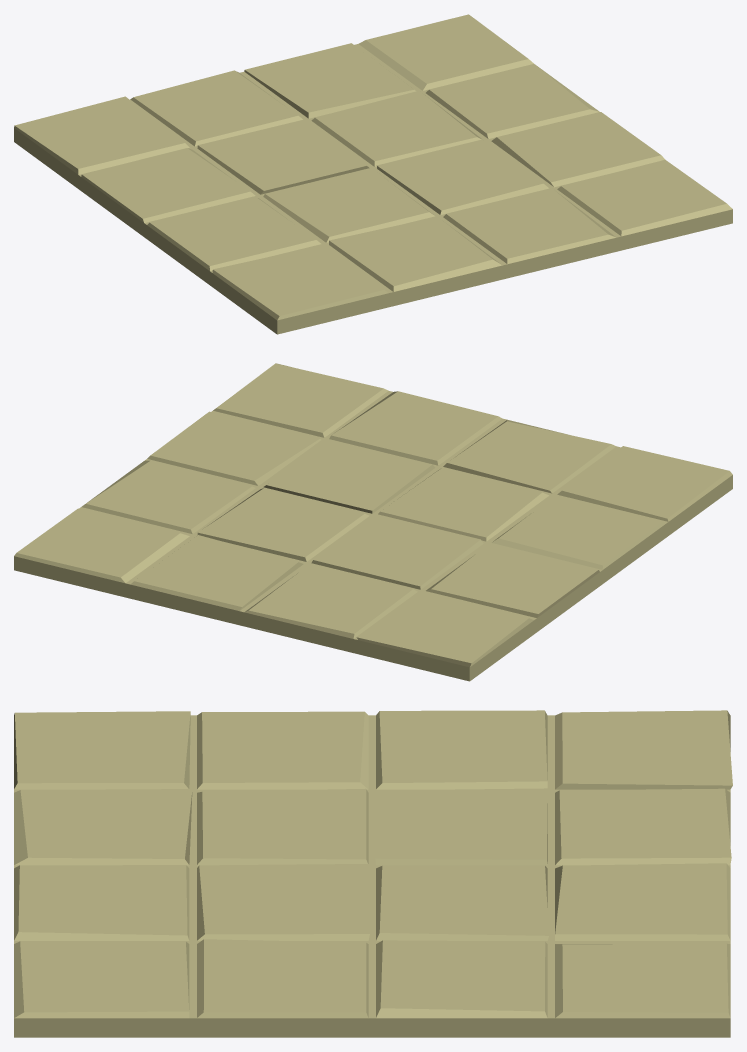
Rendered from FloorTileC.fbx.
3 renders of one model, top to bottom at view 1: azimuth 30°, elevation 25°; view 2: azimuth 150°, elevation 25°; view 3: azimuth 270°, elevation 25°, orthographic. The views are drawn at different scales.
Visible parts, largest first — view 1: FloorTileC; view 2: FloorTileC; view 3: FloorTileC.
Boxes of the visible parts, x1,y1,x2,y2 form: FloorTileC: (14, 14, 732, 334); FloorTileC: (14, 363, 732, 681); FloorTileC: (14, 710, 732, 1037).
Size of the model in its own units: 100 by 3.69 by 100.
